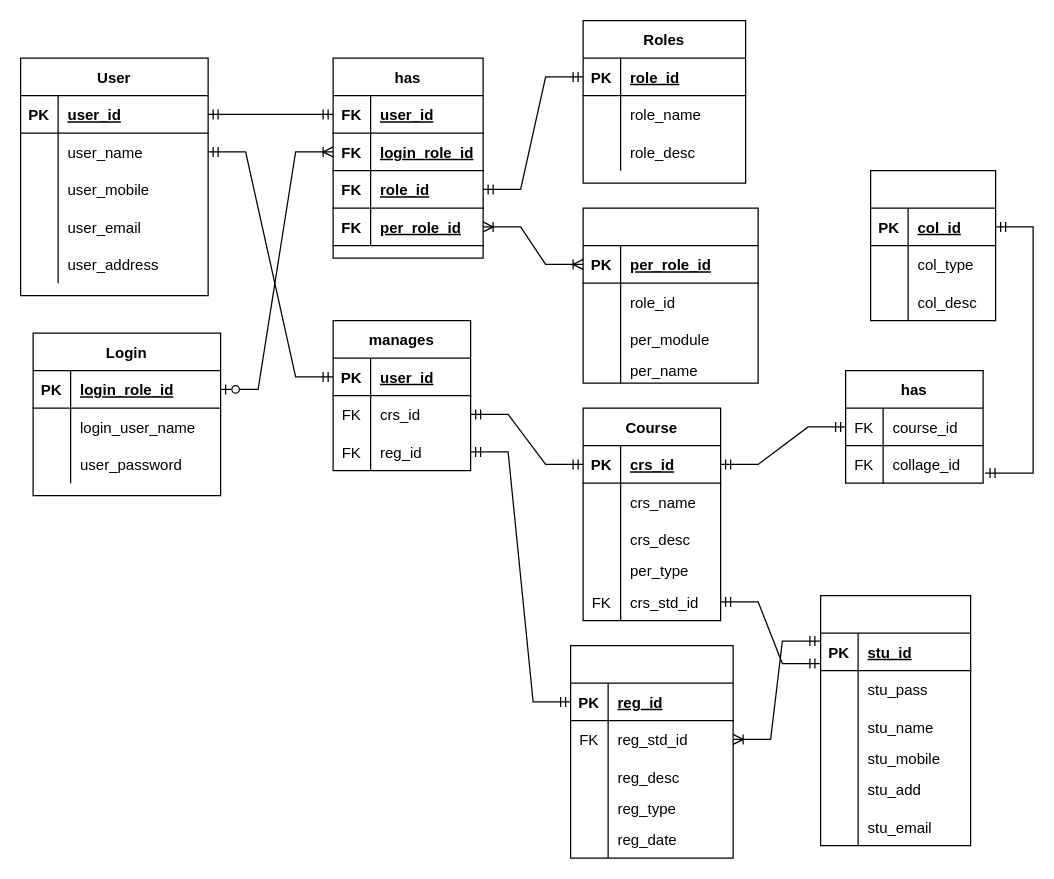
Some shapes in this 1054 by 879 pixel diagram are drawn without their labels. The shapes that lost their labels are listed below. From the top down, each one's box as (x1, y1, x2, y2) in pixels, then its label:
(869, 169, 996, 321): Collage
(582, 207, 758, 383): Permission
(819, 594, 971, 846): Student
(569, 644, 733, 858): Registration
